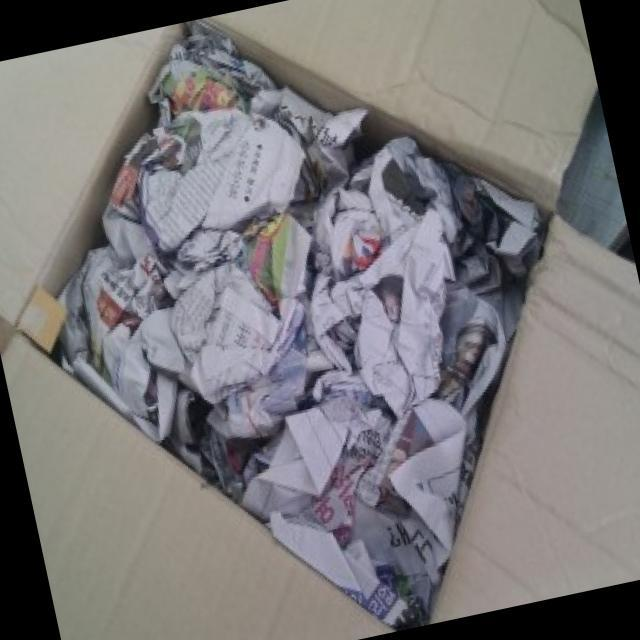reuseable_paper: (0, 0, 632, 640)
